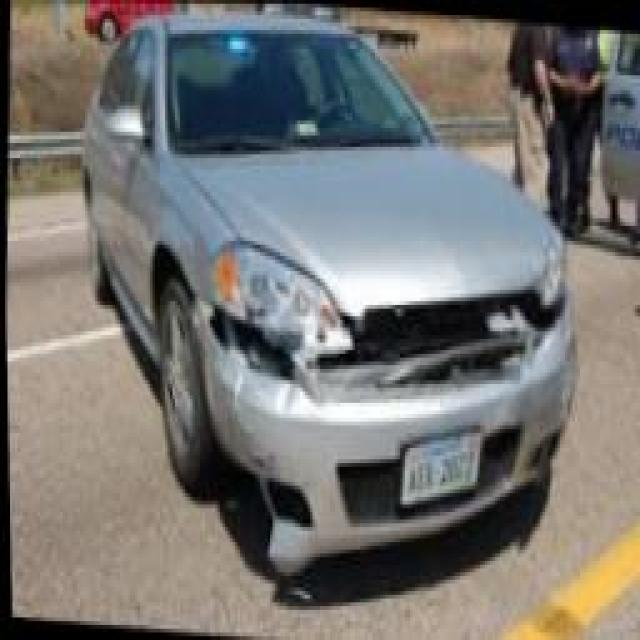Bonnet: (316, 235, 569, 370)
Bumper: (188, 293, 578, 572)
